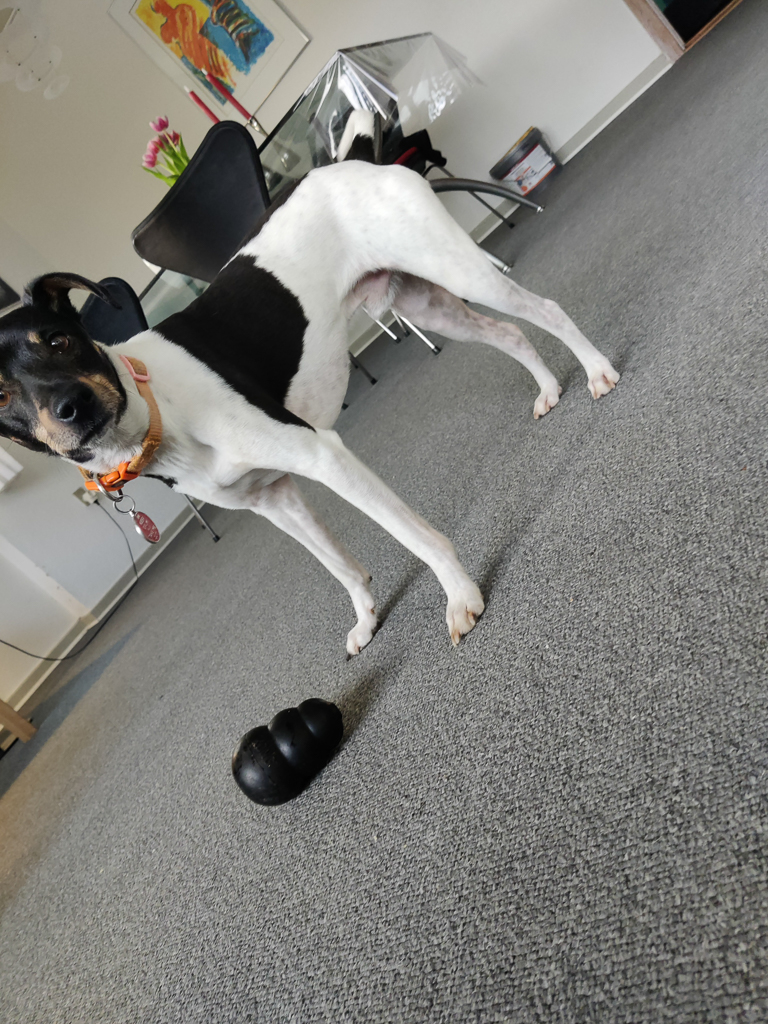Dog: (0, 101, 638, 669)
